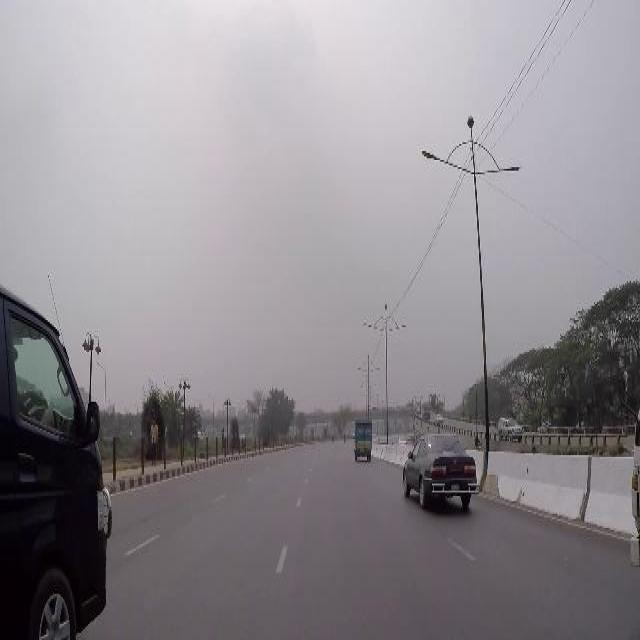11: (352, 415, 373, 460)
19: (2, 282, 112, 634)
5: (401, 431, 479, 508)
9: (496, 415, 522, 435)
Truck: (422, 400, 431, 418)
